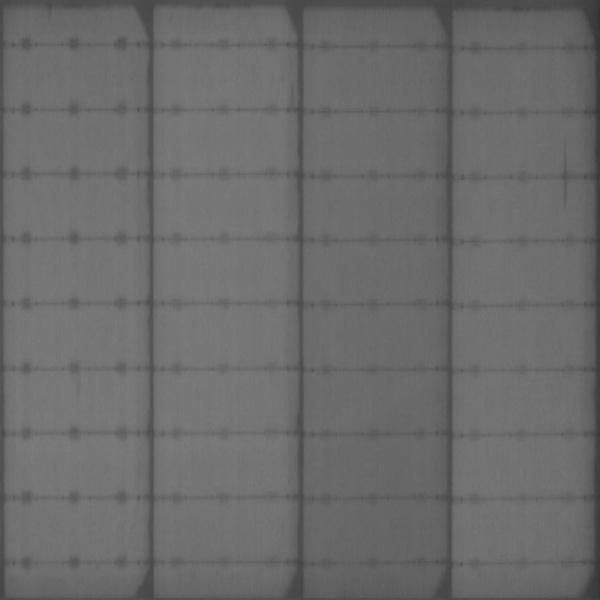scratch: (560, 137, 570, 211)
